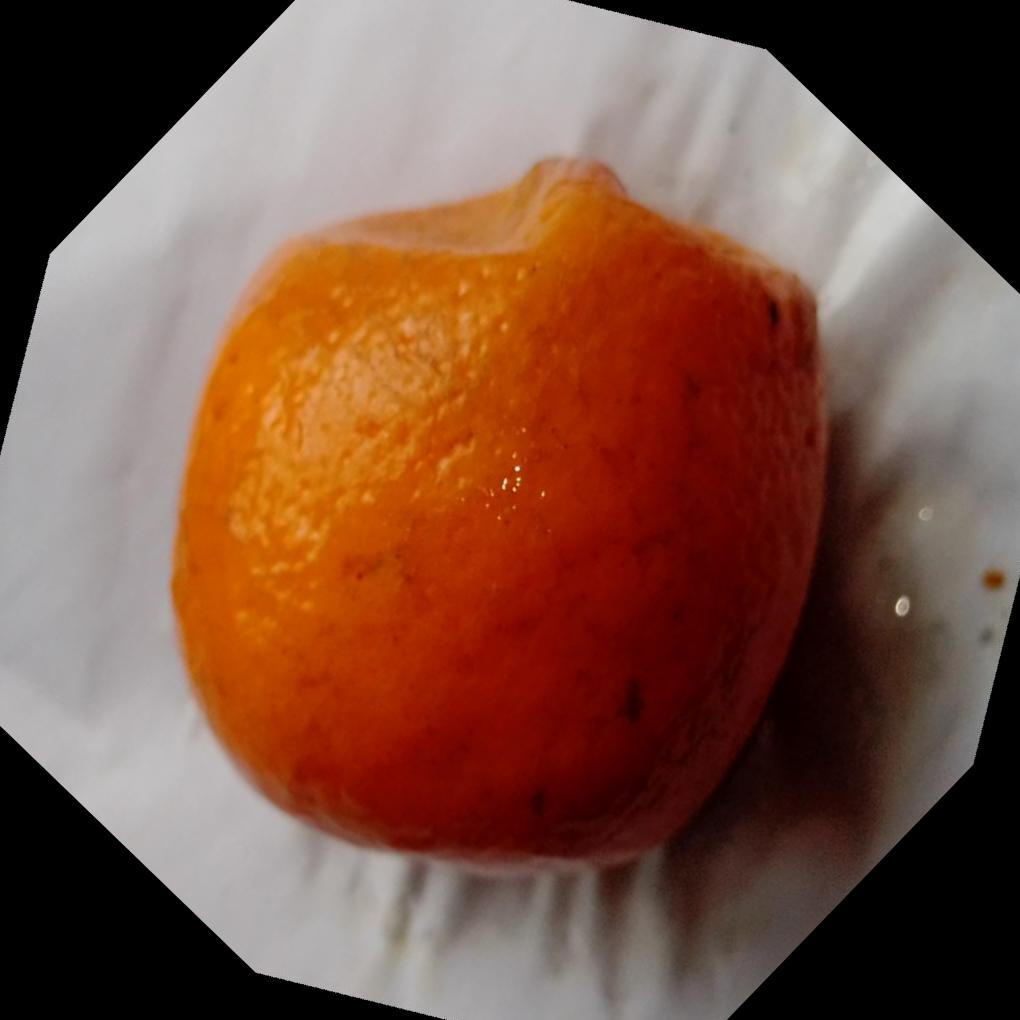FreshOrange: (169, 152, 836, 877)
